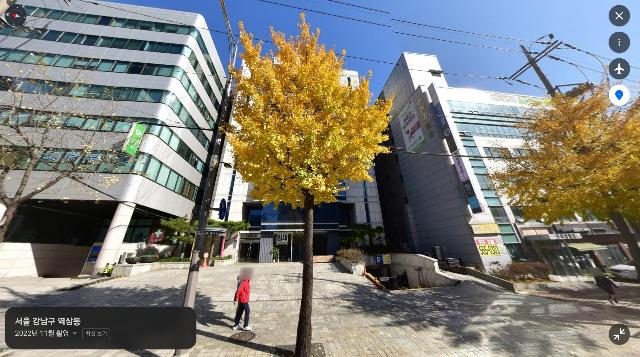ginkgo: (220, 12, 396, 357), (485, 77, 640, 288)
other: (0, 50, 153, 260), (145, 213, 208, 264), (198, 218, 260, 264)
